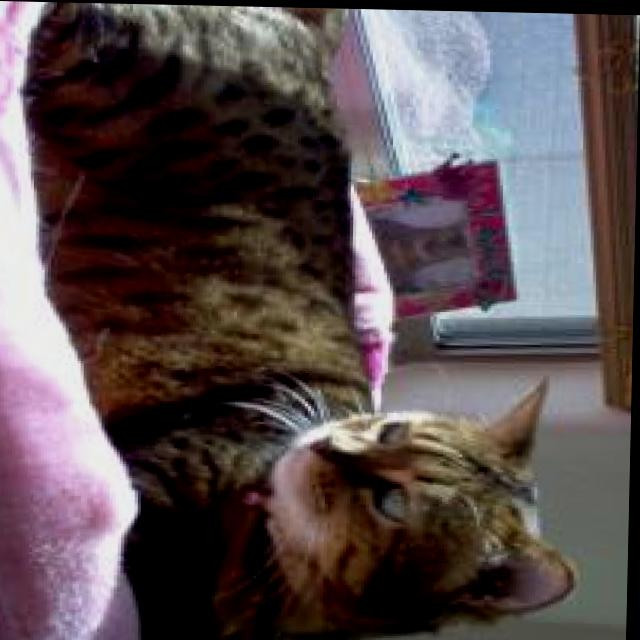Bengal: (11, 0, 605, 640)
